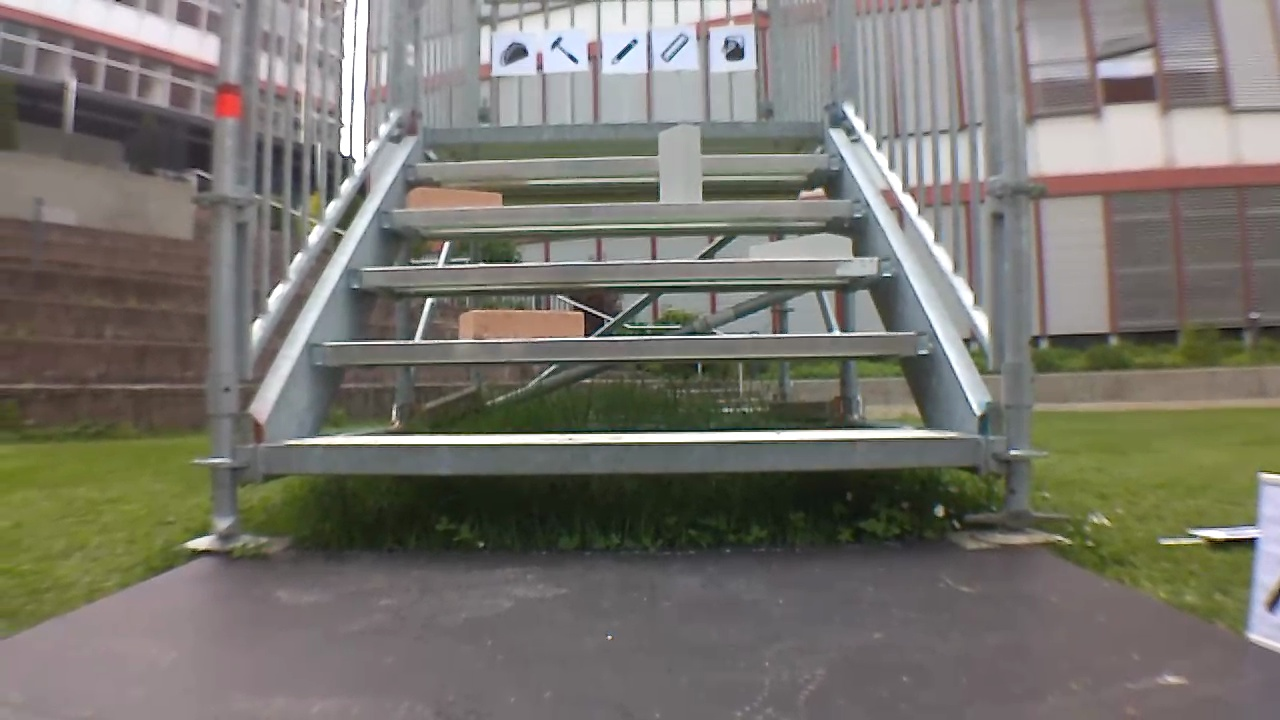brick: (459, 310, 584, 339), (659, 125, 700, 201), (750, 234, 851, 259), (407, 187, 500, 207)
bucket: (715, 30, 747, 65)
edge: (263, 436, 980, 474), (314, 330, 934, 363), (349, 257, 898, 286), (380, 199, 863, 224), (404, 155, 842, 177), (424, 122, 828, 140)
hammer: (545, 31, 583, 65)
pencil: (607, 31, 639, 68)
ruler: (657, 29, 690, 64)
stairs: (189, 2, 1048, 551)
steps: (256, 118, 984, 482)
taco: (490, 36, 530, 69)
